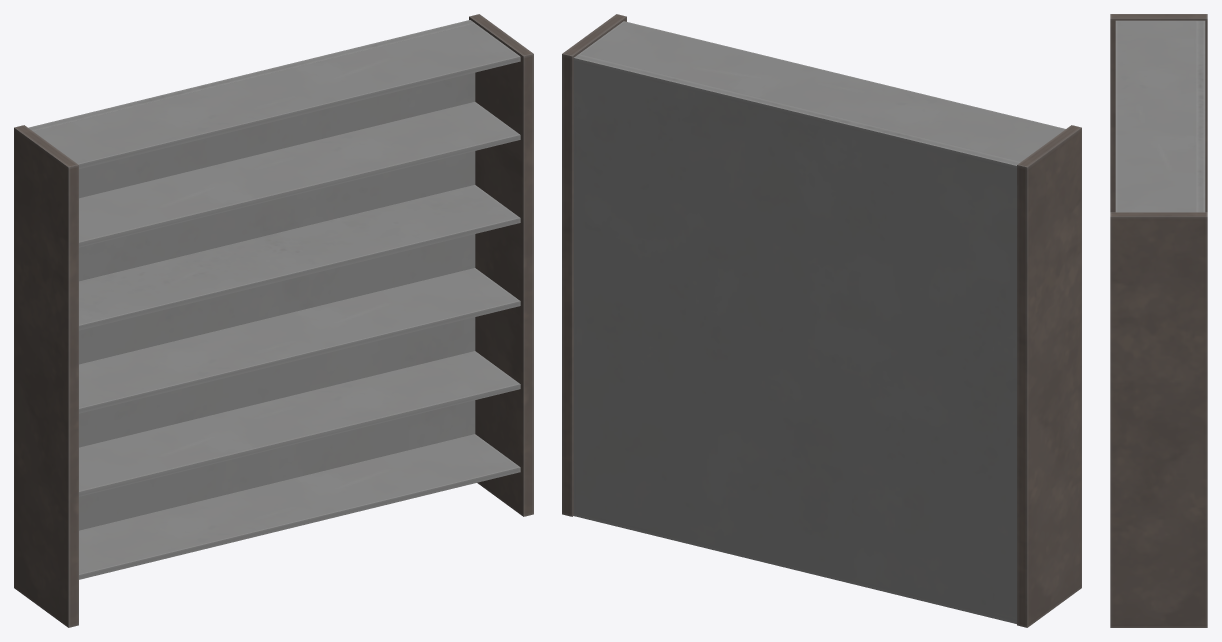
Rendered from SM_Props_Interior_03_2.glb.
3 renders of one model, left to right at view 1: azimuth 30°, elevation 25°; view 2: azimuth 150°, elevation 25°; view 3: azimuth 270°, elevation 25°, orthographic. The views are drawn at different scales.
Parts seen in each view (by area): view 1: SM_Props_Interior_03; view 2: SM_Props_Interior_03; view 3: SM_Props_Interior_03.
Part boxes in pixels (<box>): SM_Props_Interior_03: <box>14,14,533,627</box>; SM_Props_Interior_03: <box>562,14,1081,627</box>; SM_Props_Interior_03: <box>1110,14,1207,627</box>.
Bounding box in the file's own units: 2.07 × 1.96 × 0.4206.
1 material, 1 textured.
